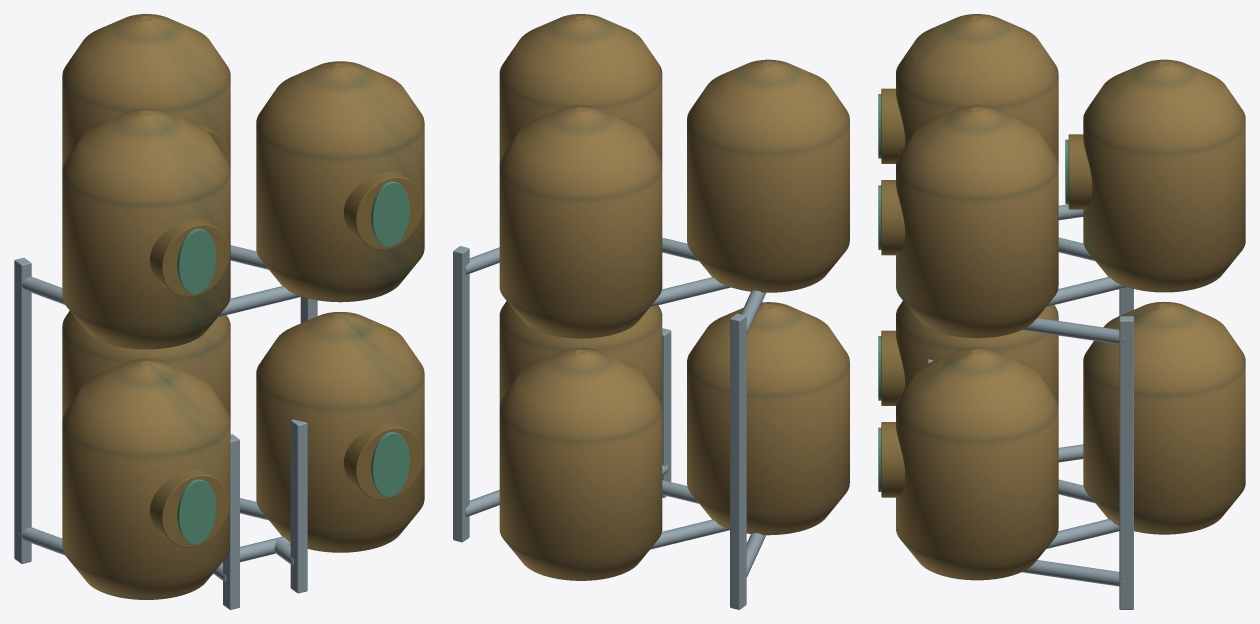
The picture shows the model from 3 angles, left to right: view 1: azimuth 30°, elevation 25°; view 2: azimuth 150°, elevation 25°; view 3: azimuth 270°, elevation 25°; orthographic projection. The views are drawn at different scales.
Visible parts, largest first — view 1: RI21 storage housing 1 1, RI21 storage housing 1 2, RI21 storage housing 0 1, RI21 storage housing 0 2, RI21 storage housing 1 0, RI21 storage housing 0 0, RI21 rear rack spine -1, RI21 front guide 1, RI21 face bezel 0 1, RI21 face bezel 1 2, RI21 face bezel 0 2, RI21 face bezel 1 1 (+9 smaller); view 2: RI21 storage housing 1 0, RI21 storage housing 0 0, RI21 storage housing 1 1, RI21 storage housing 0 1, RI21 storage housing 1 2, RI21 storage housing 0 2, RI21 rear rack spine -1, RI21 rear rack spine 1, RI21 front guide 1, RI21 cradle edge 0 0, RI21 cradle edge 1 0, RI21 rear cradle tie 1 1 (+1 smaller); view 3: RI21 storage housing 0 2, RI21 storage housing 1 2, RI21 storage housing 1 0, RI21 storage housing 0 0, RI21 storage housing 1 1, RI21 storage housing 0 1, RI21 rear rack spine 1, RI21 face bezel 1 0, RI21 face bezel 0 2, RI21 face bezel 1 2, RI21 face bezel 0 1, RI21 face bezel 1 1 (+4 smaller).
Boxes of the visible parts, x1,y1,x2,y2 form: RI21 storage housing 1 1: [62, 108, 230, 349]; RI21 storage housing 1 2: [256, 61, 424, 302]; RI21 storage housing 0 1: [62, 359, 230, 599]; RI21 storage housing 0 2: [256, 312, 424, 552]; RI21 storage housing 1 0: [62, 14, 230, 168]; RI21 storage housing 0 0: [62, 311, 230, 419]; RI21 rear rack spine -1: [14, 257, 31, 563]; RI21 front guide 1: [290, 419, 307, 593]; RI21 face bezel 0 1: [150, 469, 229, 547]; RI21 face bezel 1 2: [344, 171, 423, 249]; RI21 face bezel 0 2: [344, 422, 423, 500]; RI21 face bezel 1 1: [150, 219, 229, 296]; RI21 storage housing 1 0: [499, 105, 662, 338]; RI21 storage housing 0 0: [499, 348, 662, 580]; RI21 storage housing 1 1: [687, 59, 849, 292]; RI21 storage housing 0 1: [687, 302, 849, 535]; RI21 storage housing 1 2: [499, 14, 662, 162]; RI21 storage housing 0 2: [499, 301, 662, 404]; RI21 rear rack spine -1: [730, 313, 746, 609]; RI21 rear rack spine 1: [453, 246, 469, 542]; RI21 front guide 1: [662, 328, 671, 497]; RI21 cradle edge 0 0: [650, 519, 729, 549]; RI21 cradle edge 1 0: [650, 277, 730, 307]; RI21 rear cradle tie 1 1: [465, 247, 499, 274]; RI21 storage housing 0 2: [896, 347, 1058, 580]; RI21 storage housing 1 2: [896, 105, 1058, 338]; RI21 storage housing 1 0: [1083, 59, 1245, 292]; RI21 storage housing 0 0: [1083, 301, 1245, 534]; RI21 storage housing 1 1: [896, 14, 1058, 164]; RI21 storage housing 0 1: [896, 301, 1058, 406]; RI21 rear rack spine 1: [1119, 316, 1133, 609]; RI21 face bezel 1 0: [1068, 134, 1092, 209]; RI21 face bezel 0 2: [881, 422, 905, 497]; RI21 face bezel 1 2: [881, 180, 905, 255]; RI21 face bezel 0 1: [881, 330, 905, 405]; RI21 face bezel 1 1: [881, 88, 905, 163].
Bounding box in the file's own units: 1.3 × 1.81 × 1.27.
5 materials, 2 textured.
